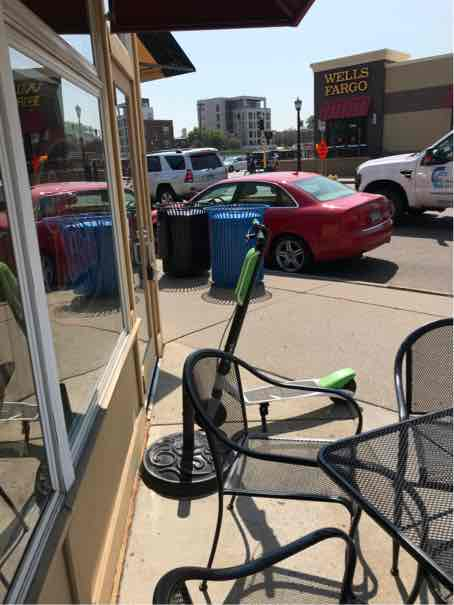scooter: (189, 202, 379, 426)
